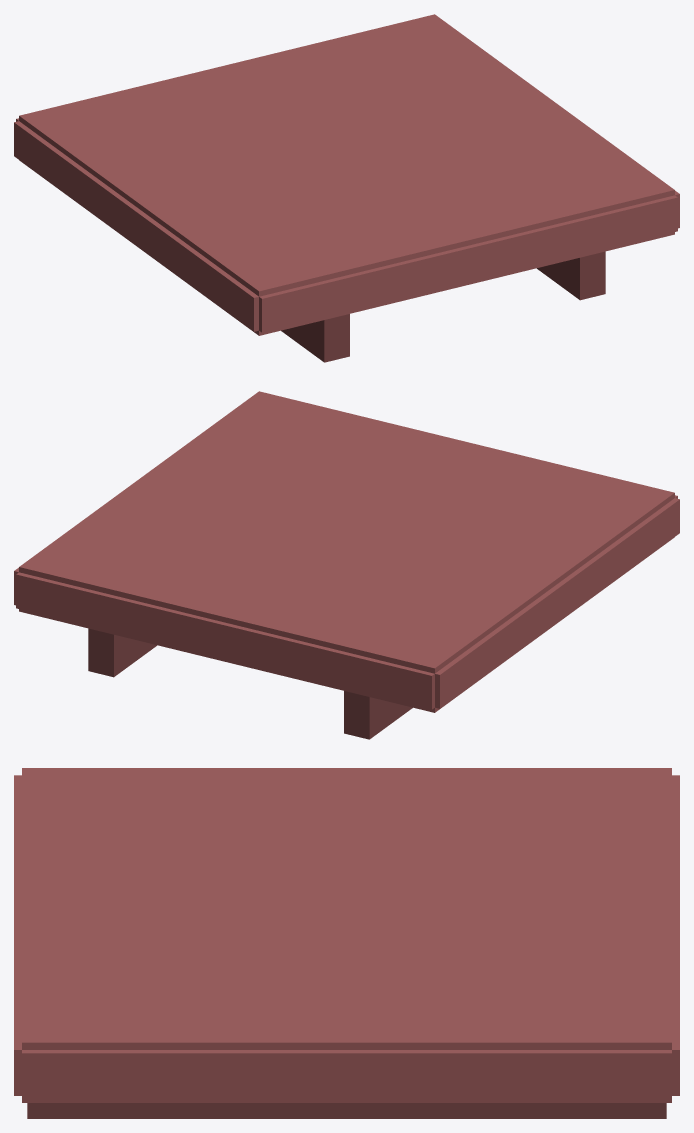
The model's file is shadewood_platform_v0.glb.
The picture shows the model from 3 angles, top to bottom: view 1: azimuth 30°, elevation 25°; view 2: azimuth 150°, elevation 25°; view 3: azimuth 270°, elevation 25°; orthographic projection. The views are drawn at different scales.
Visible parts, largest first — view 1: shadewood_platform_v0; view 2: shadewood_platform_v0; view 3: shadewood_platform_v0.
Part boxes in pixels (box(x1,y1,x2,y2)): shadewood_platform_v0: box(14, 14, 679, 362); shadewood_platform_v0: box(14, 391, 679, 739); shadewood_platform_v0: box(14, 768, 679, 1118).
Bounding box in the file's own units: 1 × 0.2 × 1.
